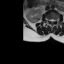CCS_normal: (51, 17, 53, 24)
LFS_normal: (55, 18, 56, 22)
LLS_normal: (53, 18, 54, 23)
RFS_normal: (48, 18, 50, 22)
RLS_normal: (50, 18, 51, 23)
